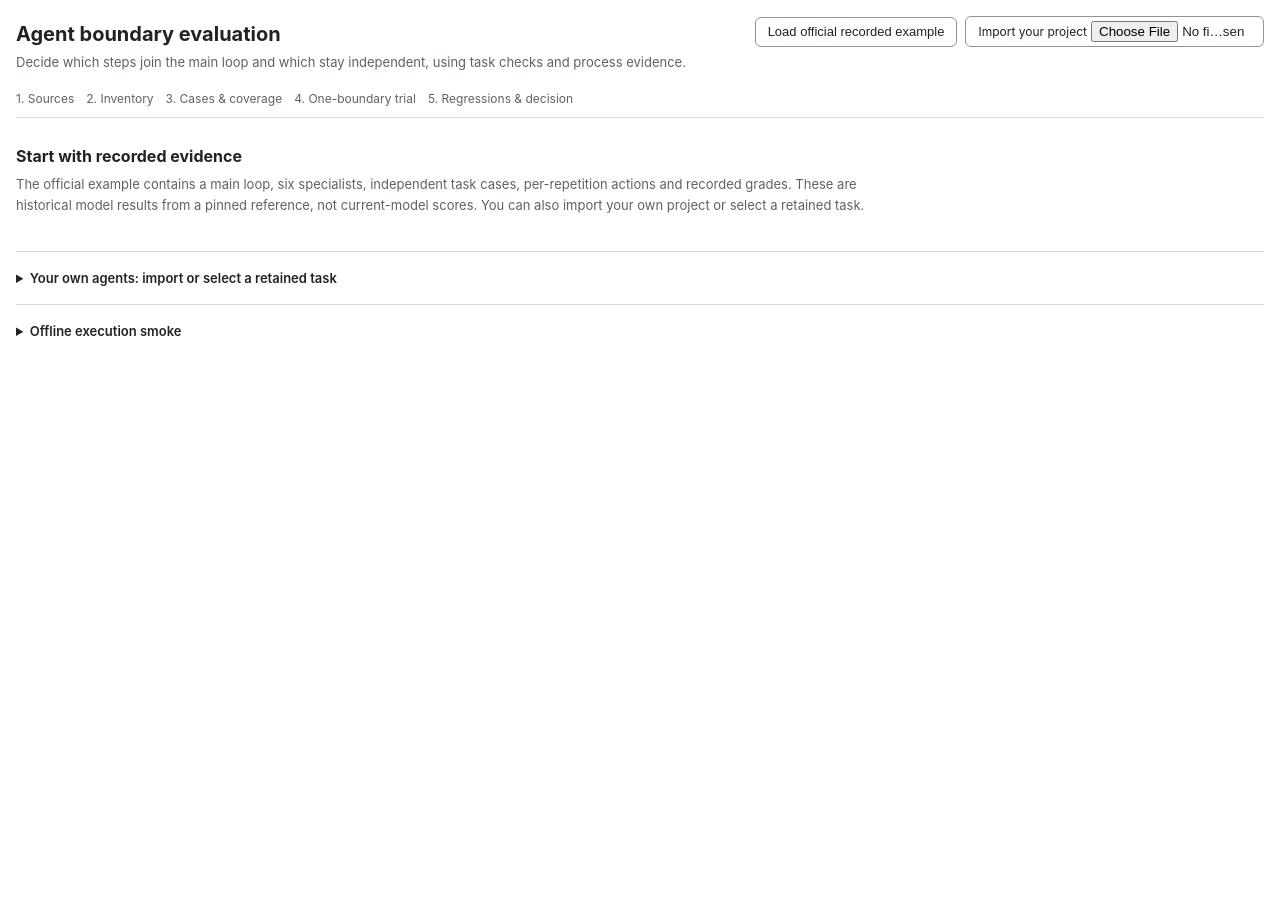
it: loads the official recorded project on demand with boolean-only status and no execution
Click the button "Load official recorded example" at (856, 32), box 755,16 -> 957,46
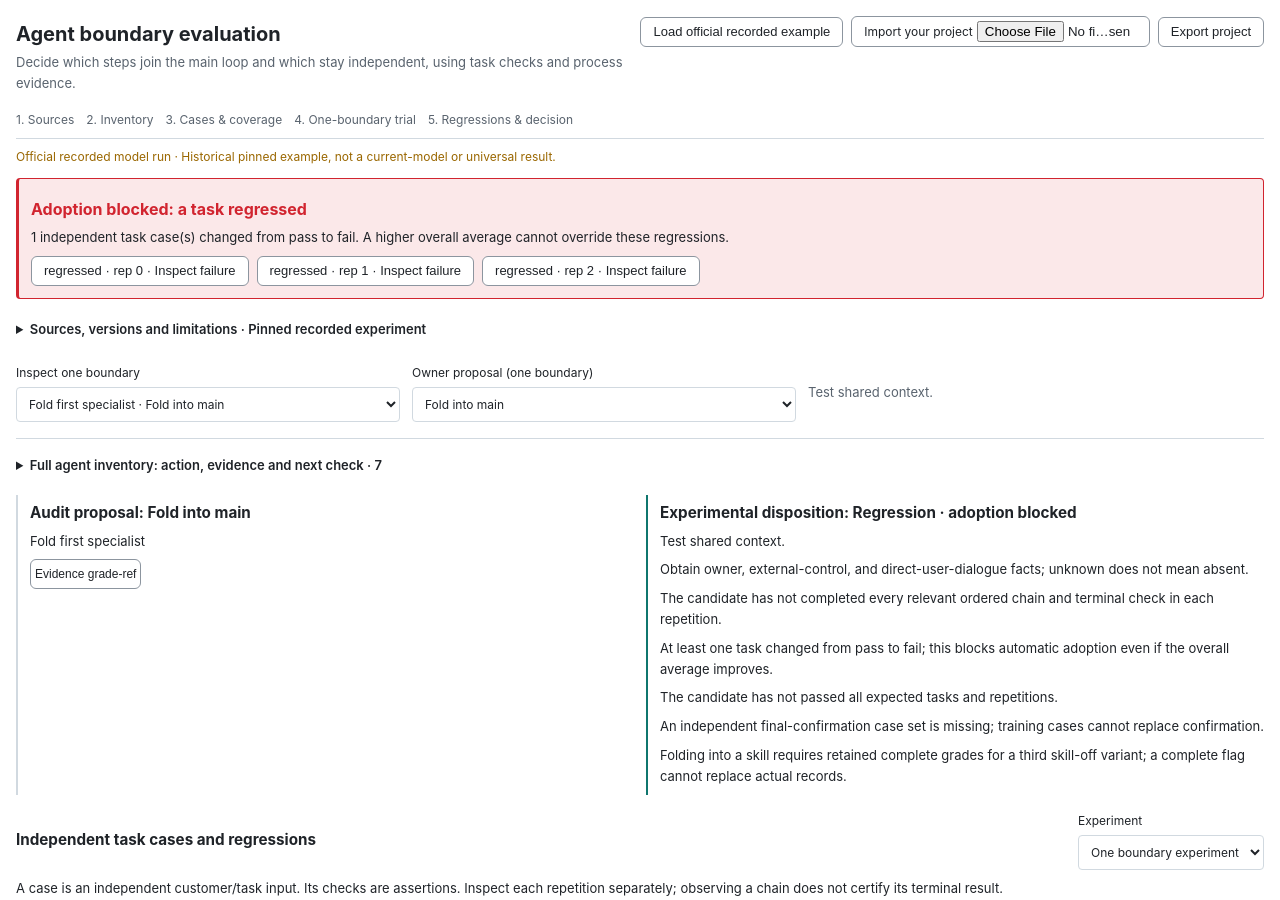
Result: the text "Pinned recorded experiment" is shown at 30,321 -> 426,337
Result: the text "Historical pinned example" is shown at 171,149 -> 556,164
